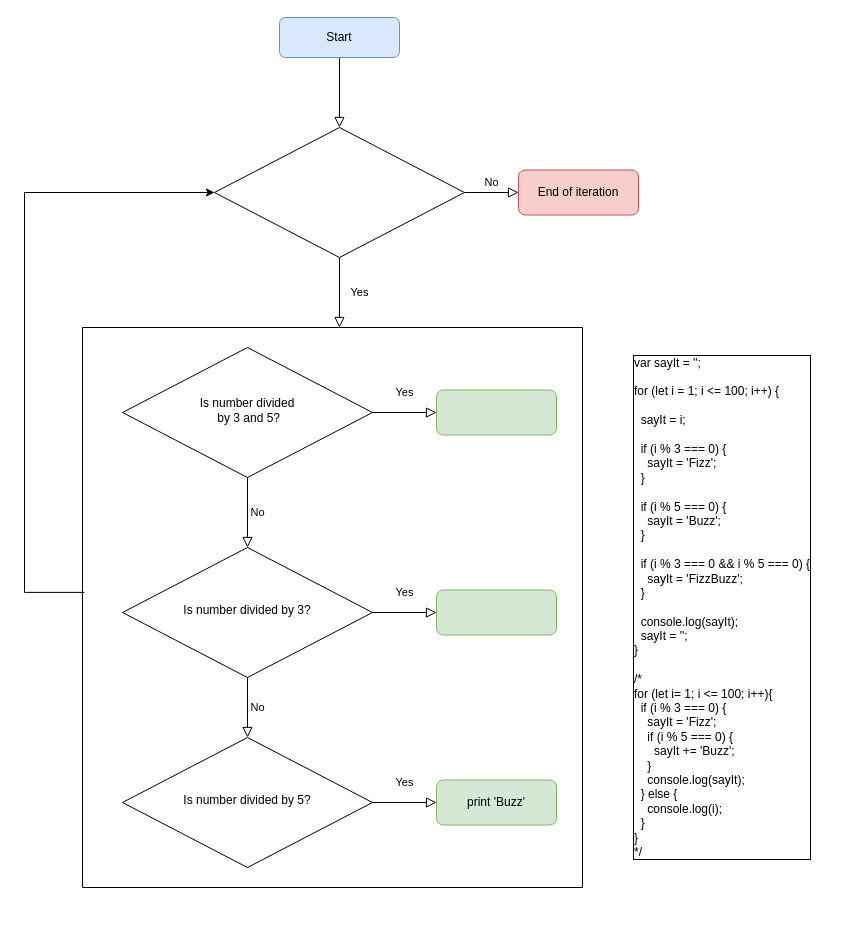
Image size: 849x940. Some labels were removed from this diagram. The centre of each missing label's shape, as x and y in pixels:
"Counter is less than equal to 100?" belongs at (339,192).
"print 'Fizz'" belongs at (496,612).
"print 'FizzBuzz'" belongs at (496,412).
